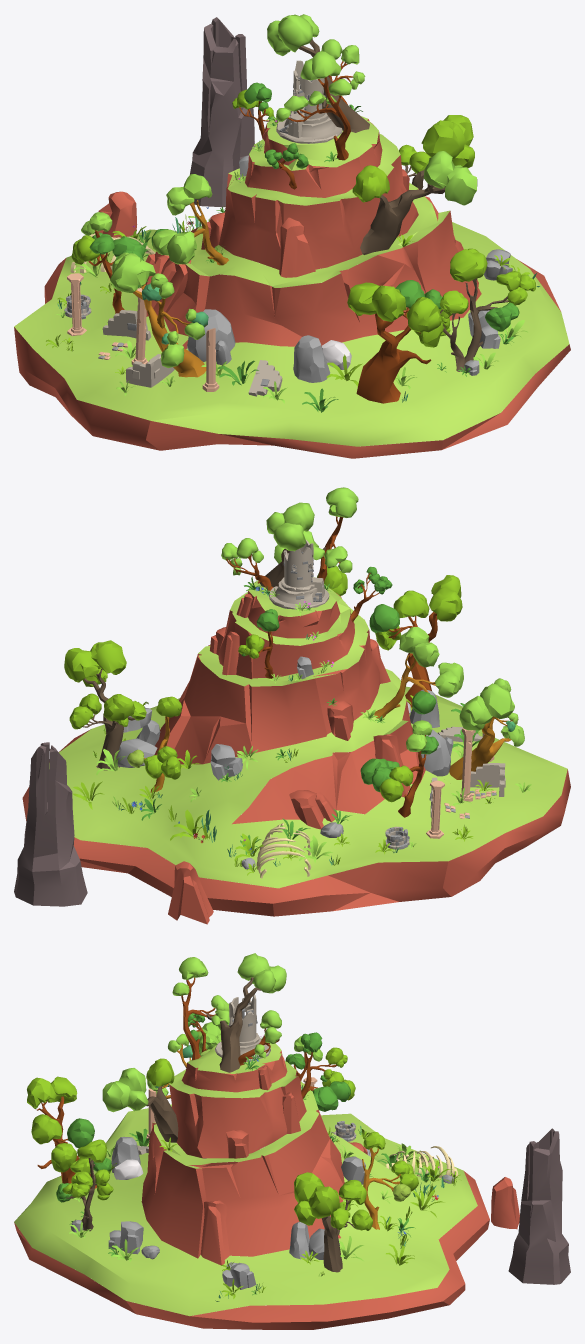
File: island.glb
3 renders of one model, top to bottom at view 1: azimuth 30°, elevation 25°; view 2: azimuth 150°, elevation 25°; view 3: azimuth 270°, elevation 25°, orthographic. The views are drawn at different scales.
Visible parts, largest first — view 1: Terrain, Vegetation; view 2: Terrain, Vegetation; view 3: Terrain, Vegetation.
Part boxes in pixels (x1,y1,x2,y2): Terrain: (14,17,570,458); Vegetation: (46,14,539,412); Terrain: (14,577,570,924); Vegetation: (64,487,531,878); Terrain: (14,1039,570,1329); Vegetation: (27,953,461,1301).
Size of what is drawn, in the model's own units: 14.18 by 9.38 by 16.55.
